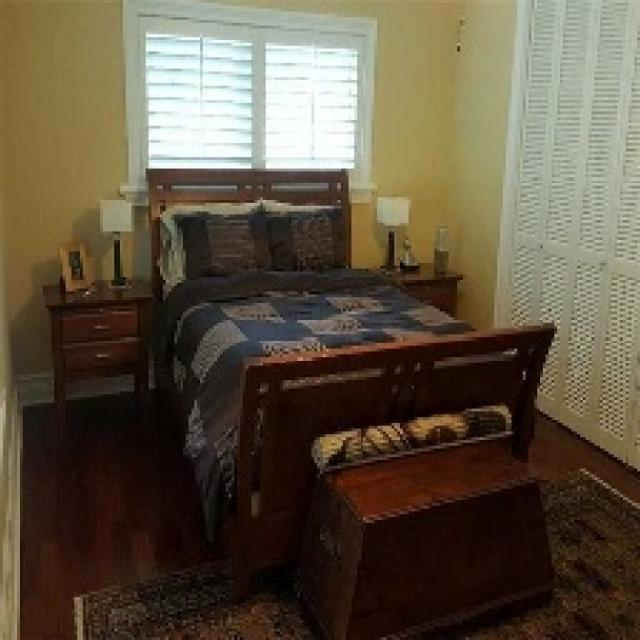Bed: (143, 166, 554, 597)
